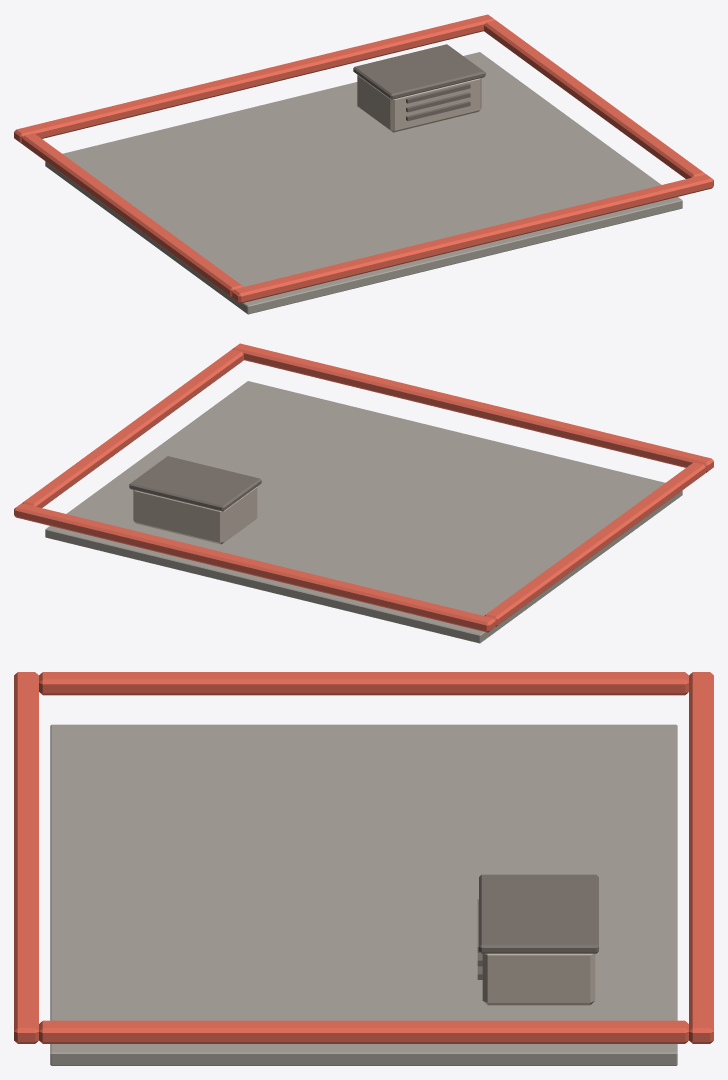
Rendered from cinema_roof_cap.glb.
3 renders of one model, top to bottom at view 1: azimuth 30°, elevation 25°; view 2: azimuth 150°, elevation 25°; view 3: azimuth 270°, elevation 25°, orthographic. The views are drawn at different scales.
Visible parts, largest first — view 1: cinema_roof_cap; view 2: cinema_roof_cap; view 3: cinema_roof_cap.
Boxes of the visible parts, <box> form: cinema_roof_cap: <box>14,14,713,314</box>; cinema_roof_cap: <box>14,343,713,643</box>; cinema_roof_cap: <box>14,672,713,1065</box>.
Size of the model in its own units: 6.8 by 0.68 by 5.6.
